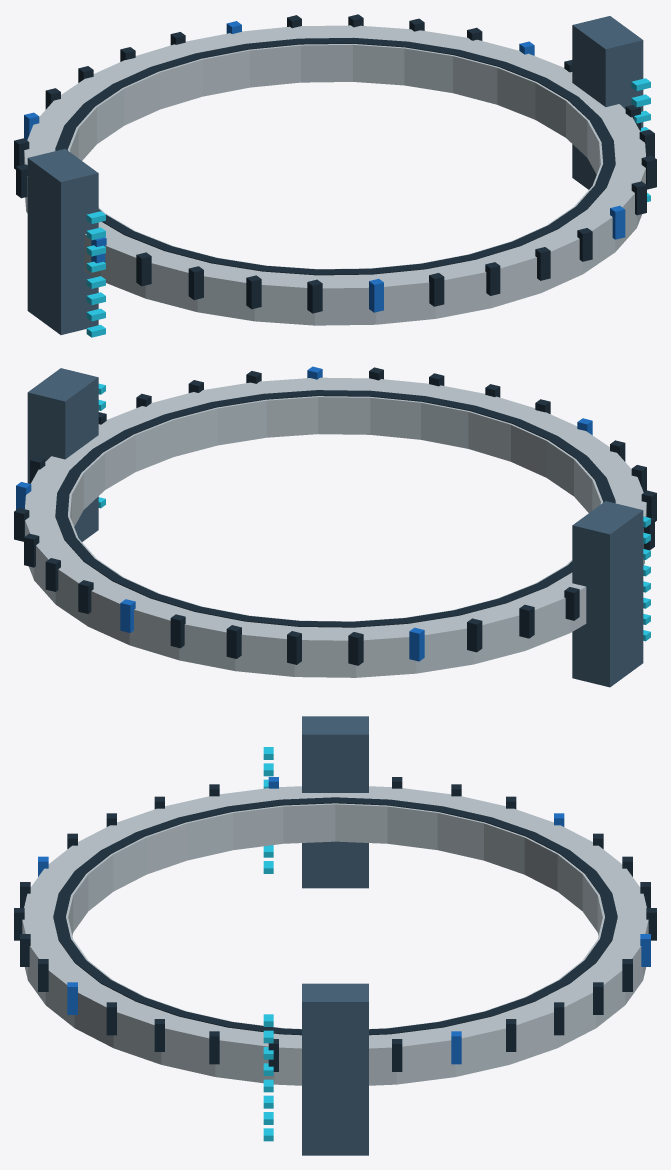
File: 23_L74_ActiveOpticalFocusCorrector.fbx
3 views of the same model, one above another, from view 1: azimuth 30°, elevation 25°; view 2: azimuth 150°, elevation 25°; view 3: azimuth 270°, elevation 25° (orthographic).
Visible parts, largest first — view 1: ActiveOpticalFocusCorrector_Part_0000, ActiveOpticalFocusCorrector, ActiveOpticalFocusCorrector_Part_0001, ActiveOpticalFocusCorrector_Part_0014, ActiveOpticalFocusCorrector_Part_0016, ActiveOpticalFocusCorrector_Part_0013, ActiveOpticalFocusCorrector_Part_0011, ActiveOpticalFocusCorrector_Part_0015, ActiveOpticalFocusCorrector_Part_0010, ActiveOpticalFocusCorrector_Part_0012; view 2: ActiveOpticalFocusCorrector_Part_0000, ActiveOpticalFocusCorrector, ActiveOpticalFocusCorrector_Part_0001, ActiveOpticalFocusCorrector_Part_0022, ActiveOpticalFocusCorrector_Part_0020, ActiveOpticalFocusCorrector_Part_0023, ActiveOpticalFocusCorrector_Part_0021, ActiveOpticalFocusCorrector_Part_0025, ActiveOpticalFocusCorrector_Part_0019, ActiveOpticalFocusCorrector_Part_0026, ActiveOpticalFocusCorrector_Part_0024; view 3: ActiveOpticalFocusCorrector_Part_0000, ActiveOpticalFocusCorrector, ActiveOpticalFocusCorrector_Part_0001.
Boxes of the visible parts, x1,y1,x2,y2 form: ActiveOpticalFocusCorrector_Part_0000: (24,25,645,325); ActiveOpticalFocusCorrector: (27,16,650,337); ActiveOpticalFocusCorrector_Part_0001: (55,37,615,275); ActiveOpticalFocusCorrector_Part_0014: (246,275,261,309); ActiveOpticalFocusCorrector_Part_0016: (136,252,151,286); ActiveOpticalFocusCorrector_Part_0013: (307,279,322,313); ActiveOpticalFocusCorrector_Part_0011: (429,273,444,306); ActiveOpticalFocusCorrector_Part_0015: (188,266,203,299); ActiveOpticalFocusCorrector_Part_0010: (485,262,500,295); ActiveOpticalFocusCorrector_Part_0012: (369,278,383,312); ActiveOpticalFocusCorrector_Part_0000: (25,377,646,677); ActiveOpticalFocusCorrector: (27,368,650,687); ActiveOpticalFocusCorrector_Part_0001: (55,390,615,627); ActiveOpticalFocusCorrector_Part_0022: (409,627,424,661); ActiveOpticalFocusCorrector_Part_0020: (519,604,534,638); ActiveOpticalFocusCorrector_Part_0023: (348,632,363,665); ActiveOpticalFocusCorrector_Part_0021: (467,618,482,652); ActiveOpticalFocusCorrector_Part_0025: (226,625,241,658); ActiveOpticalFocusCorrector_Part_0019: (564,587,579,620); ActiveOpticalFocusCorrector_Part_0026: (170,614,185,648); ActiveOpticalFocusCorrector_Part_0024: (287,631,301,664); ActiveOpticalFocusCorrector_Part_0000: (22,786,648,1085); ActiveOpticalFocusCorrector: (263,716,368,1155); ActiveOpticalFocusCorrector_Part_0001: (53,797,617,1035).
Bounding box in the file's own units: 263 × 66 × 250.
